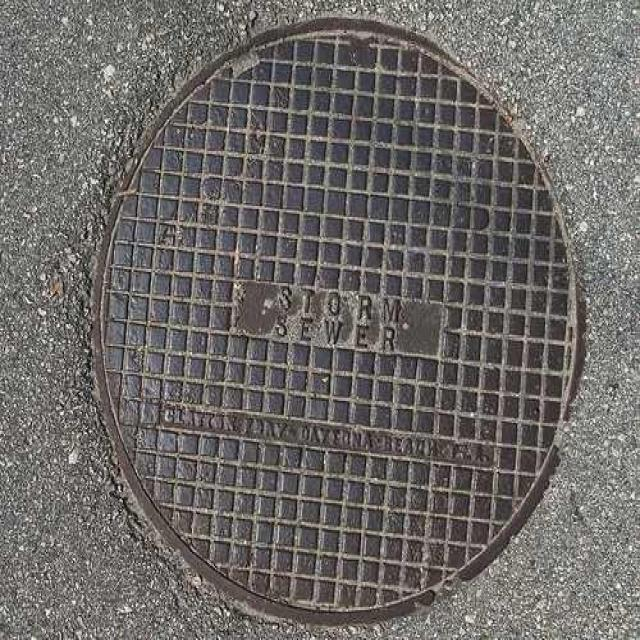manhole: (95, 20, 579, 623)
